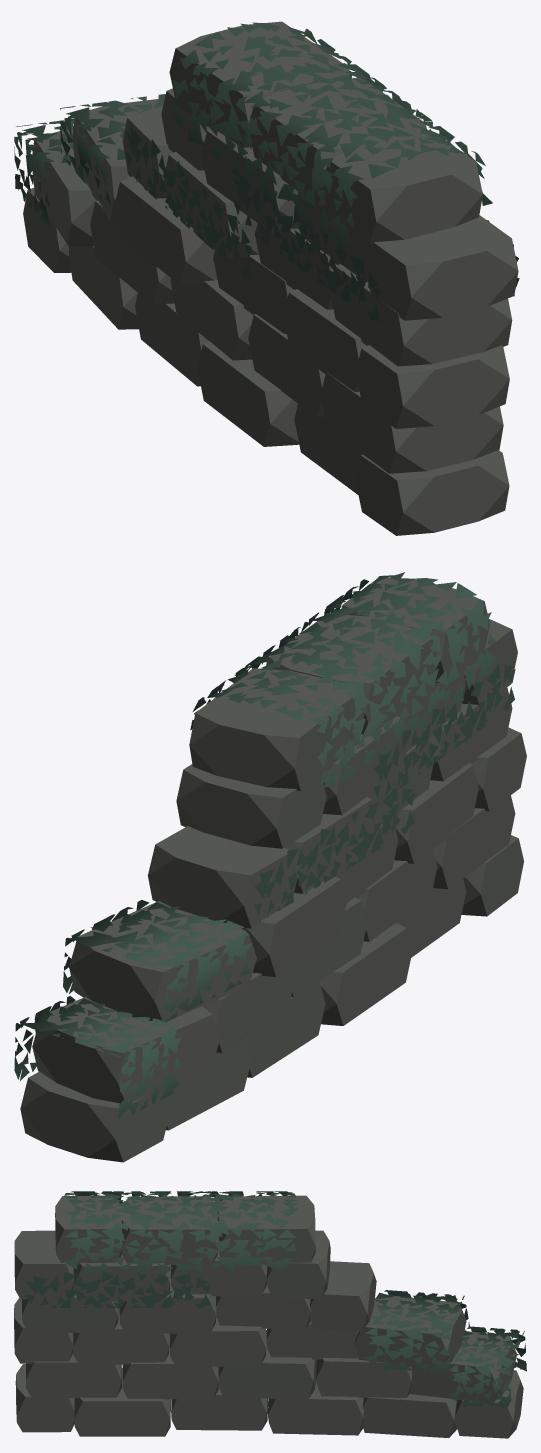
Rendered from Stonefence1.fbx.
3 views of the same model, one above another, from view 1: azimuth 30°, elevation 25°; view 2: azimuth 150°, elevation 25°; view 3: azimuth 270°, elevation 25° (orthographic). The views are drawn at different scales.
Visible parts, largest first — view 1: Stonefence1; view 2: Stonefence1; view 3: Stonefence1.
Part boxes in pixels (x1=…): Stonefence1: x1=14, y1=21, x2=519, y2=535; Stonefence1: x1=14, y1=572, x2=526, y2=1162; Stonefence1: x1=14, y1=1191, x2=526, y2=1438.
Size of the model in its own units: 1.12 by 2.31 by 5.
